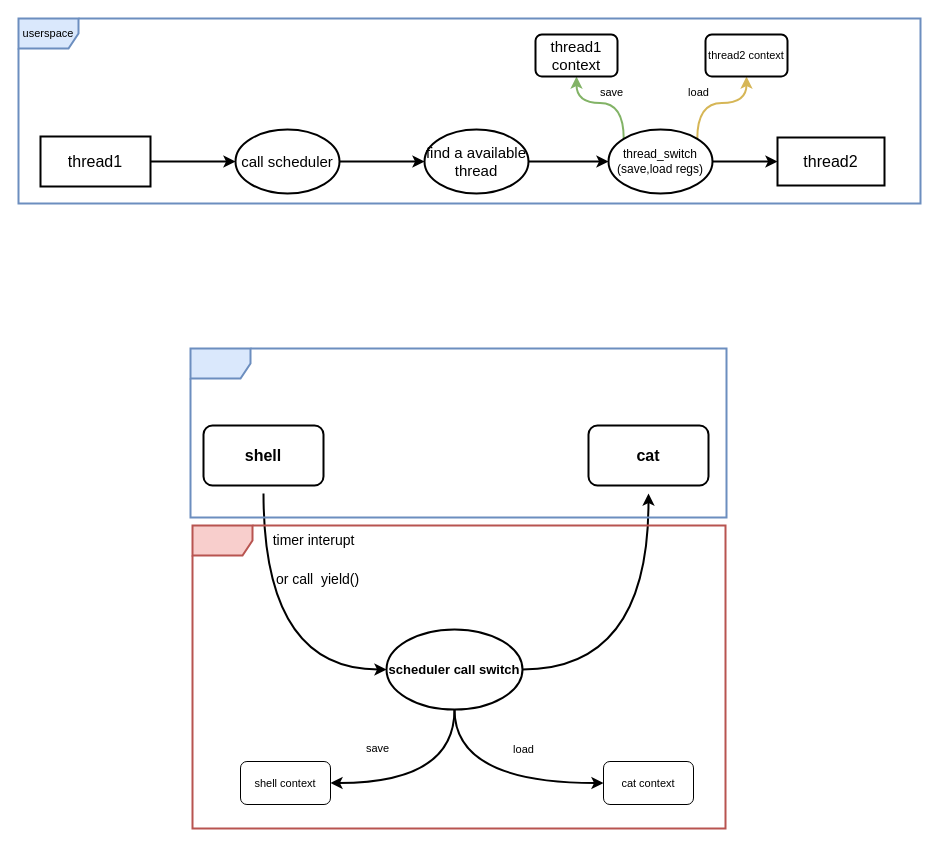
Image size: 938x846. Some labels were removed from this diagram. Each missing label, with the centre of its shape:
kernel: [458,676]
user: [458,432]
